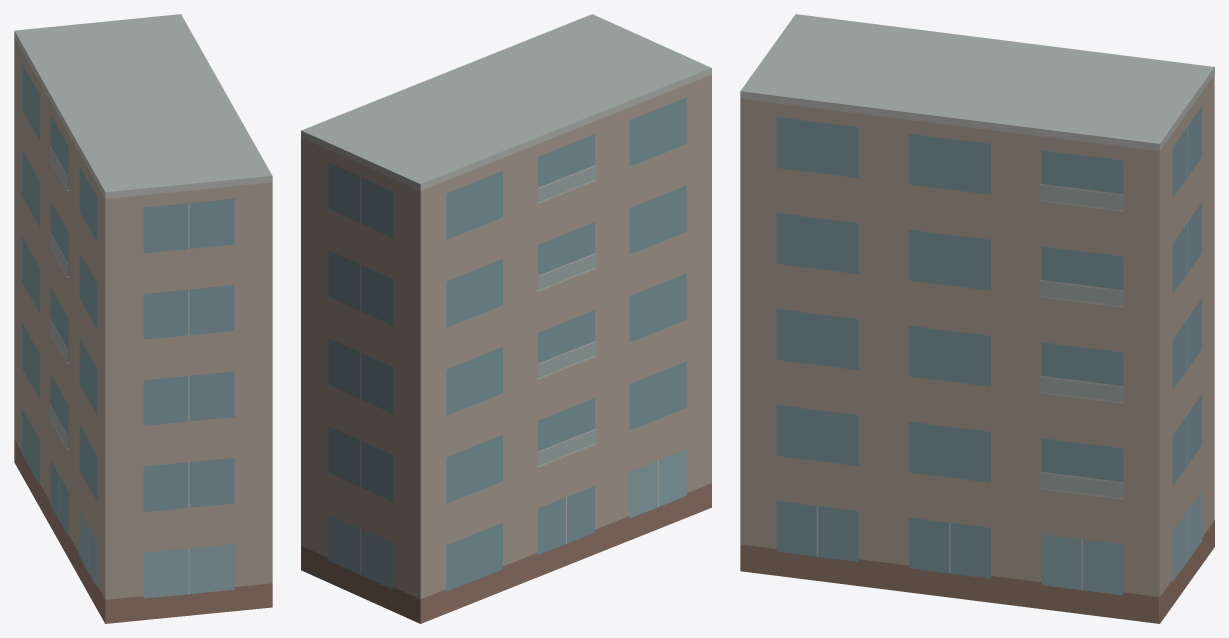
File: survey-upis-32887549.glb
The picture shows the model from 3 angles, left to right: view 1: azimuth 30°, elevation 25°; view 2: azimuth 150°, elevation 25°; view 3: azimuth 270°, elevation 25°; orthographic projection. The views are drawn at different scales.
Parts seen in each view (by area): view 1: survey-upis-32887549.tmp; view 2: survey-upis-32887549.tmp; view 3: survey-upis-32887549.tmp.
Boxes of the visible parts, <box> form: survey-upis-32887549.tmp: <box>14,14,272,623</box>; survey-upis-32887549.tmp: <box>301,14,711,623</box>; survey-upis-32887549.tmp: <box>740,14,1214,623</box>.
Size of the model in its own units: 9.24 by 15.9 by 14.26.
